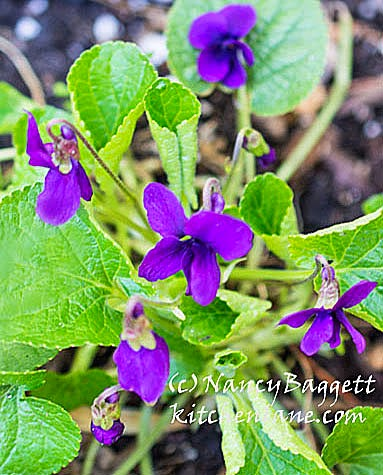violet: (115, 167, 253, 309), (84, 312, 193, 418), (280, 268, 374, 368), (21, 120, 99, 235)
